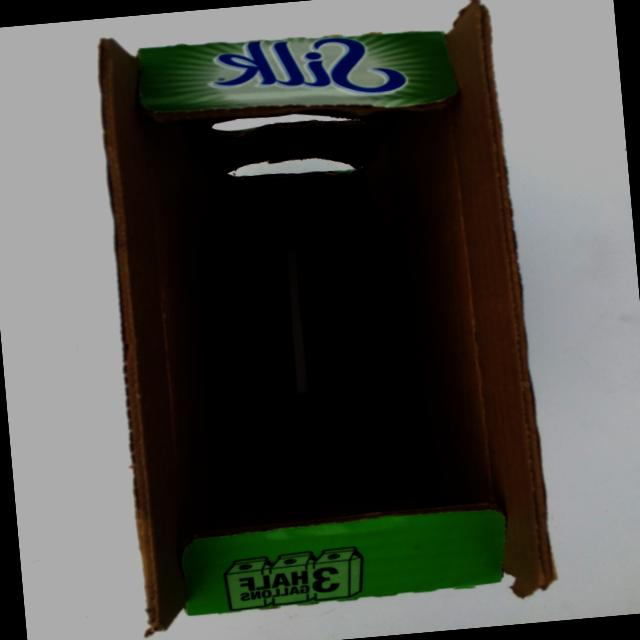Cardboard: (71, 0, 595, 640)
